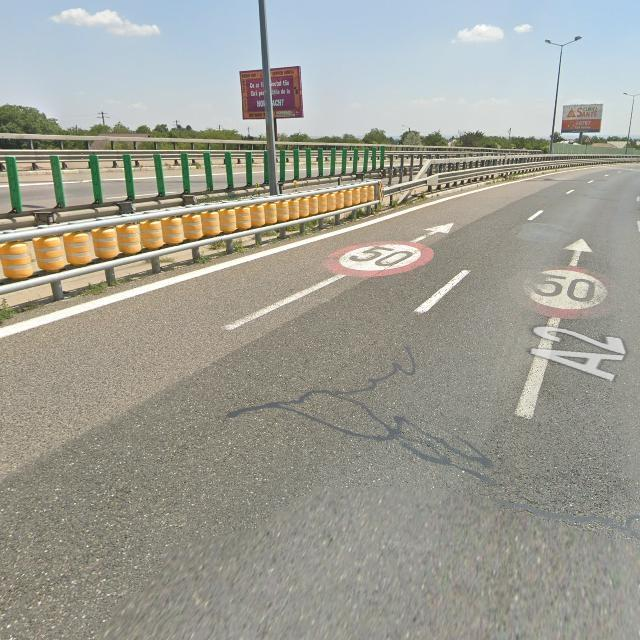forb_speed_over_50: (508, 263, 622, 320), (322, 240, 435, 277)
